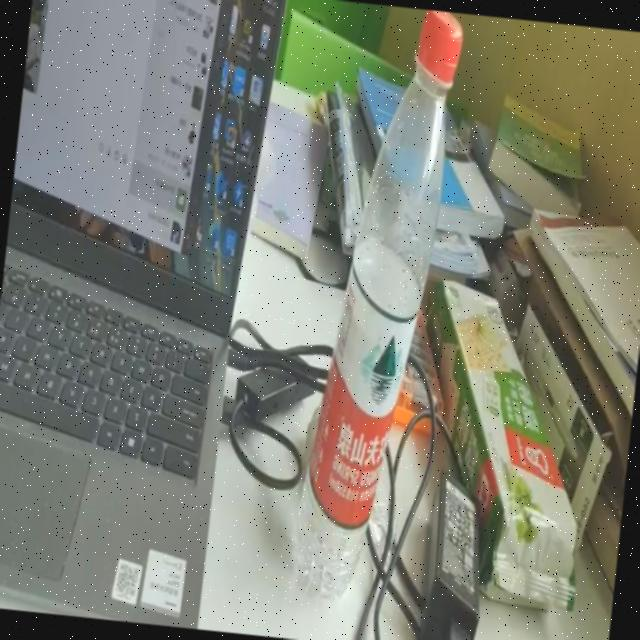bottle: (280, 0, 468, 618)
cap: (418, 16, 462, 68)
label: (300, 254, 428, 534)
